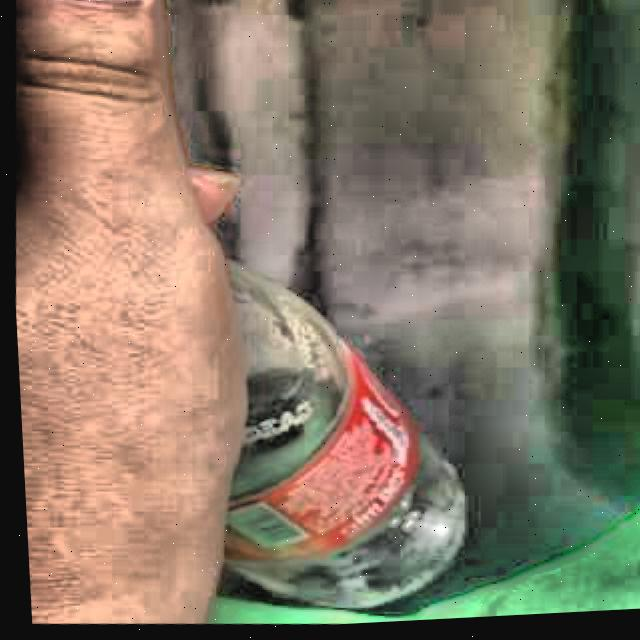glass: (218, 266, 458, 614)
